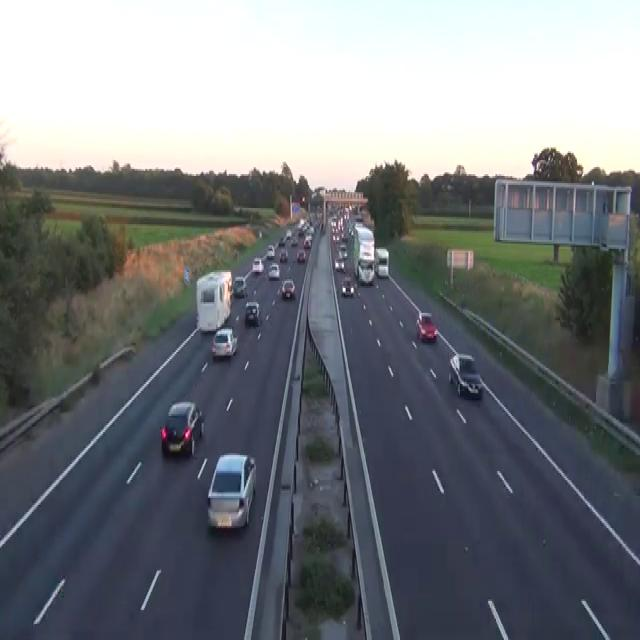Car: (206, 452, 256, 530), (160, 400, 204, 457), (448, 352, 482, 398), (211, 327, 237, 359), (415, 311, 437, 341), (357, 258, 374, 284), (244, 300, 260, 326), (232, 275, 247, 297), (281, 277, 295, 299), (341, 275, 354, 297), (252, 256, 263, 274), (267, 263, 279, 279), (334, 256, 344, 272), (296, 249, 305, 263), (338, 244, 347, 258), (183, 266, 190, 284), (266, 244, 274, 258), (303, 235, 311, 249), (279, 249, 288, 261), (354, 213, 363, 224), (290, 237, 298, 246), (278, 235, 285, 245), (285, 230, 292, 238), (299, 217, 305, 226), (298, 228, 304, 236), (275, 220, 280, 228), (258, 230, 262, 238), (301, 196, 305, 204)
Truck: (196, 268, 232, 332), (347, 224, 375, 284), (374, 247, 389, 277)
